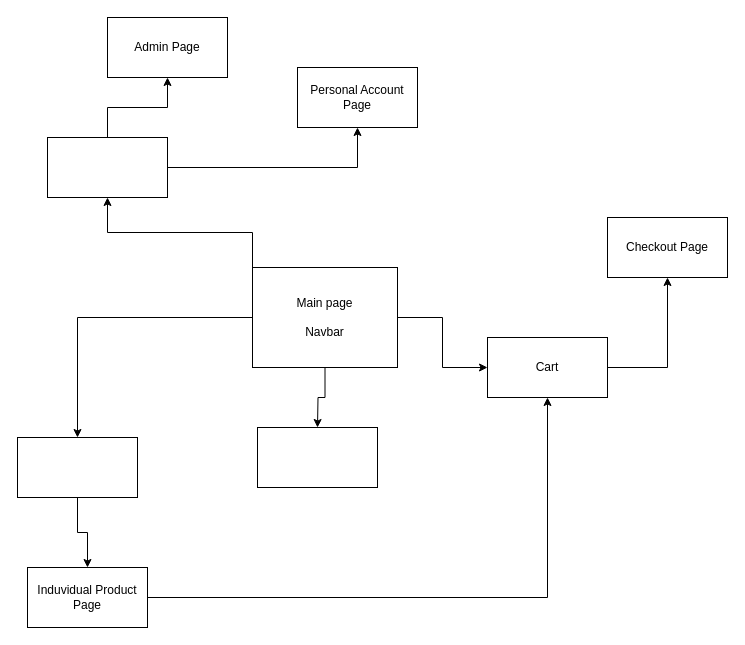
Image size: 745x645. Some labels were removed from this diagram. Each missing label, with the centre of its shape:
"About-section" goes at [317,457].
"Login Page" goes at [107,167].
"Product Catalog" goes at [77,467].
